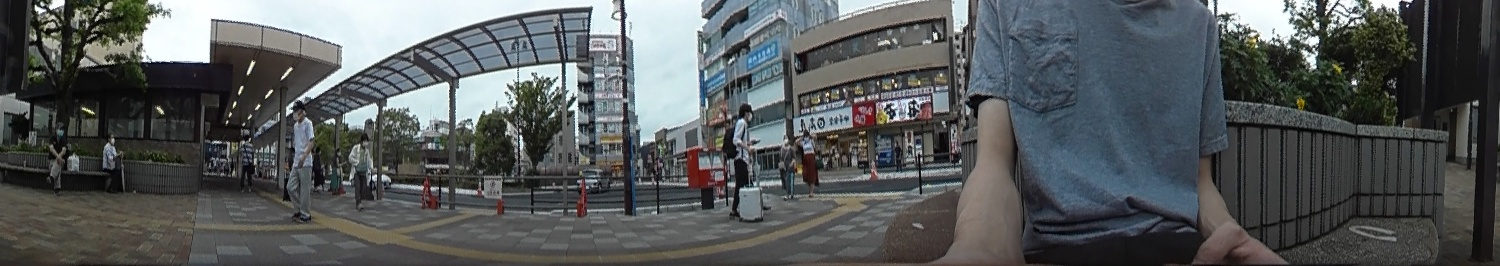difficult_person: (331, 145, 341, 195), (315, 147, 325, 189), (893, 141, 904, 172)
person: (285, 101, 314, 221), (726, 103, 755, 219), (351, 135, 373, 211), (45, 122, 67, 193), (237, 135, 256, 193), (800, 127, 816, 191), (779, 133, 795, 196), (102, 133, 118, 189)
